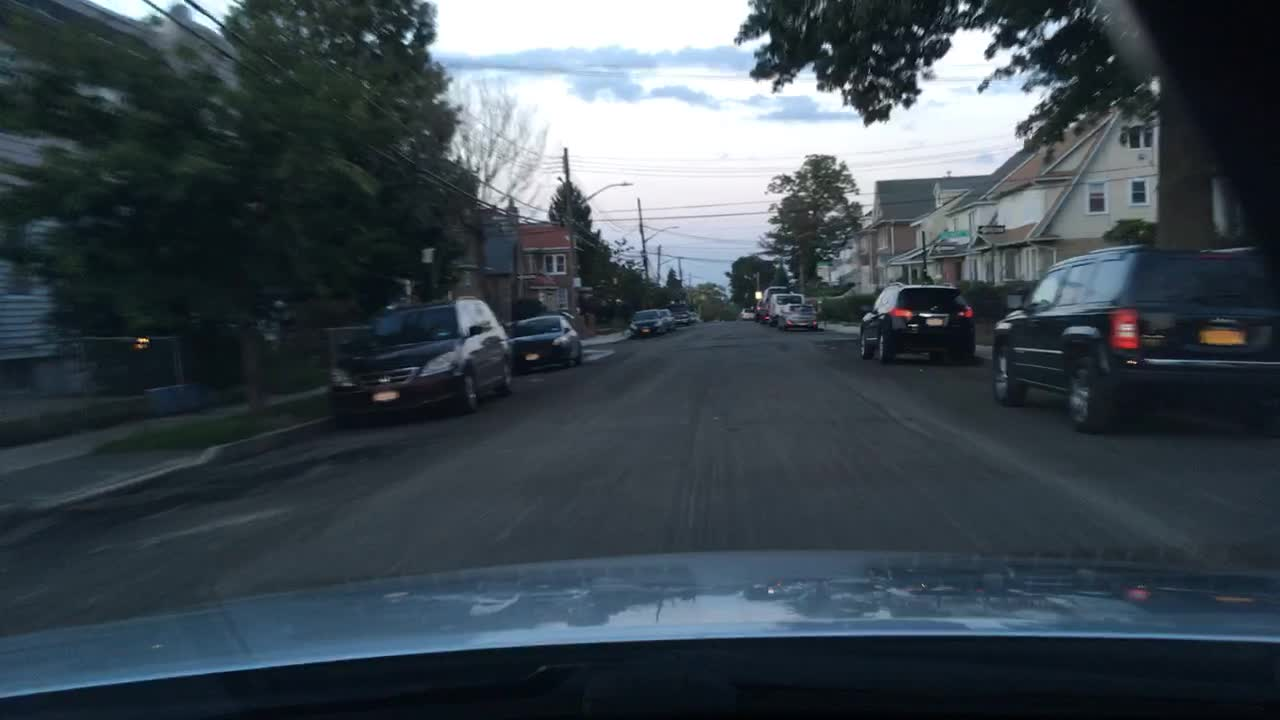car: (990, 243, 1279, 436), (323, 294, 516, 420), (855, 281, 977, 365), (508, 314, 585, 369), (630, 309, 676, 333), (783, 300, 820, 329), (758, 281, 783, 319), (768, 294, 800, 319), (672, 305, 691, 322), (658, 309, 676, 324), (741, 306, 755, 318), (690, 309, 704, 319)
traffic sign: (938, 228, 971, 239), (978, 222, 1008, 234)
